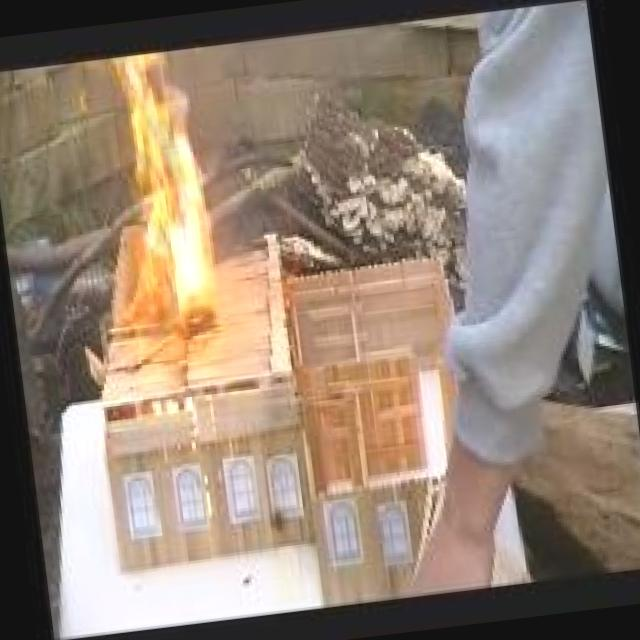fire: (84, 42, 238, 340)
